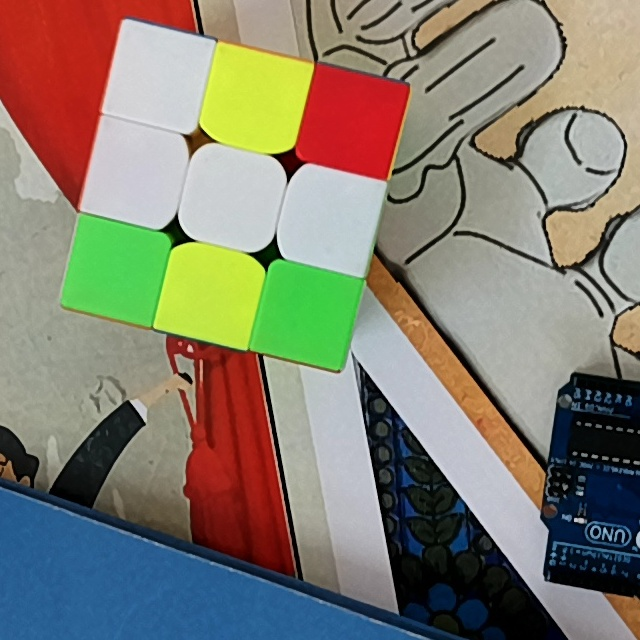tile: (214, 63, 293, 141), (191, 161, 271, 234), (120, 37, 197, 112), (313, 85, 389, 160), (293, 183, 368, 258), (98, 138, 174, 212), (170, 262, 249, 331), (267, 282, 343, 352), (77, 239, 153, 306)
